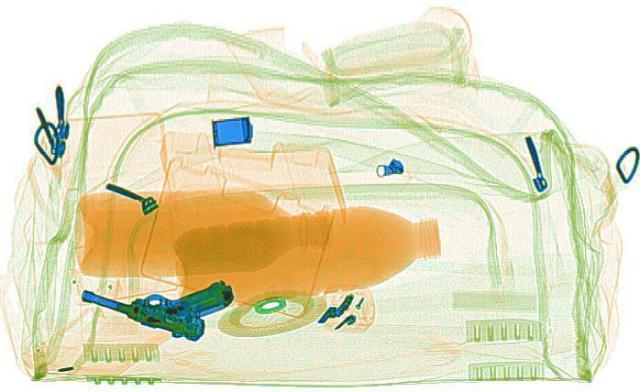Gun: (65, 250, 244, 341)
